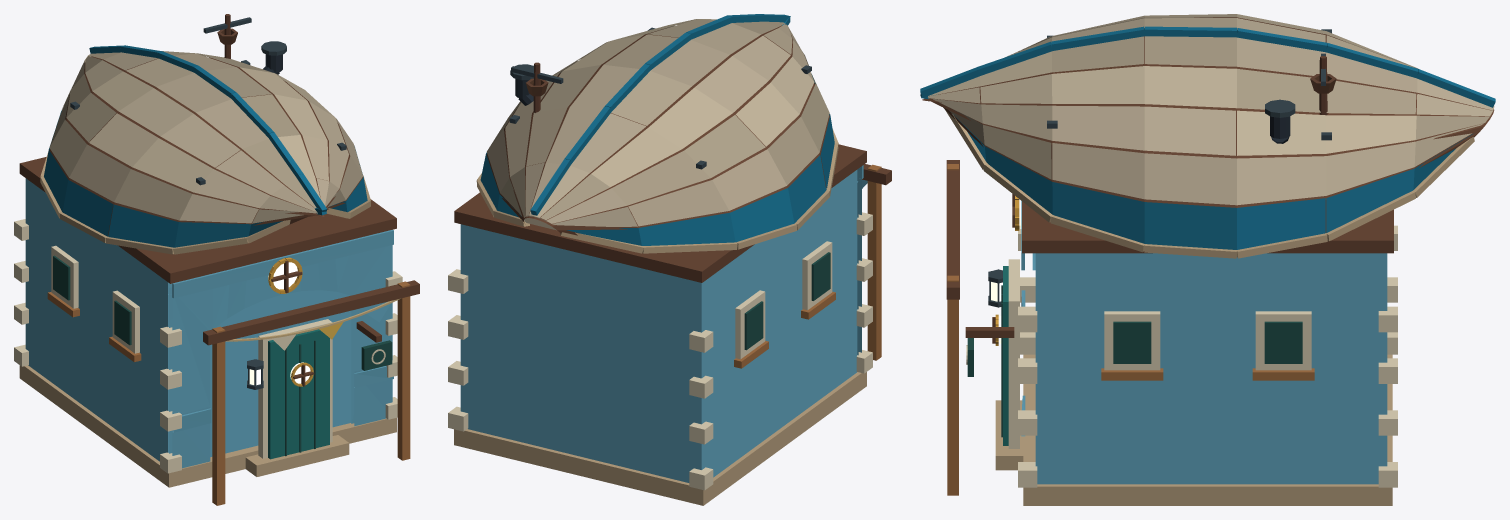
File: boat-shop-medium-sky.glb
3 views of the same model, side by side, from view 1: azimuth 30°, elevation 25°; view 2: azimuth 150°, elevation 25°; view 3: azimuth 270°, elevation 25° (orthographic). The views are drawn at different scales.
Parts seen in each view (by area): view 1: boat-shop-medium-sky; view 2: boat-shop-medium-sky; view 3: boat-shop-medium-sky.
Boxes of the visible parts, bbox=[...] form: boat-shop-medium-sky: bbox=[14, 14, 419, 505]; boat-shop-medium-sky: bbox=[448, 14, 891, 505]; boat-shop-medium-sky: bbox=[920, 14, 1495, 505].
Bounding box in the file's own units: 4.42 × 5.23 × 6.5.
